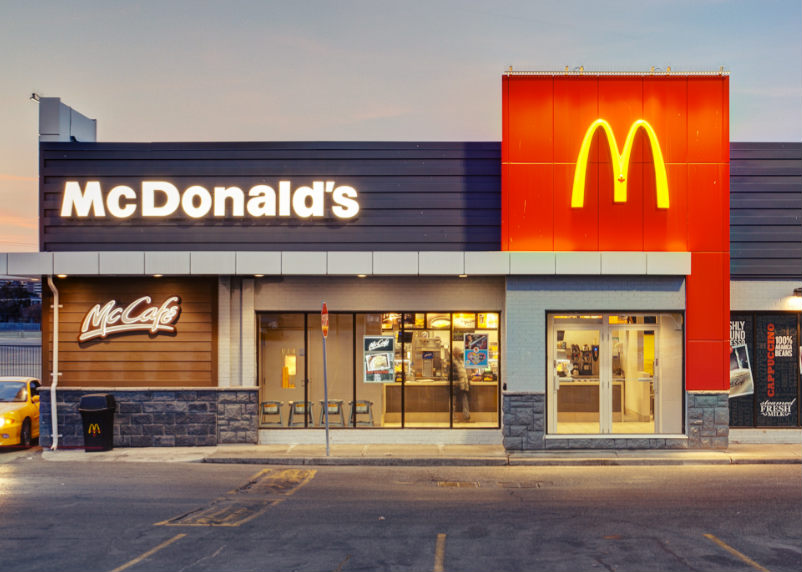mcdonalds: (561, 108, 690, 219)
